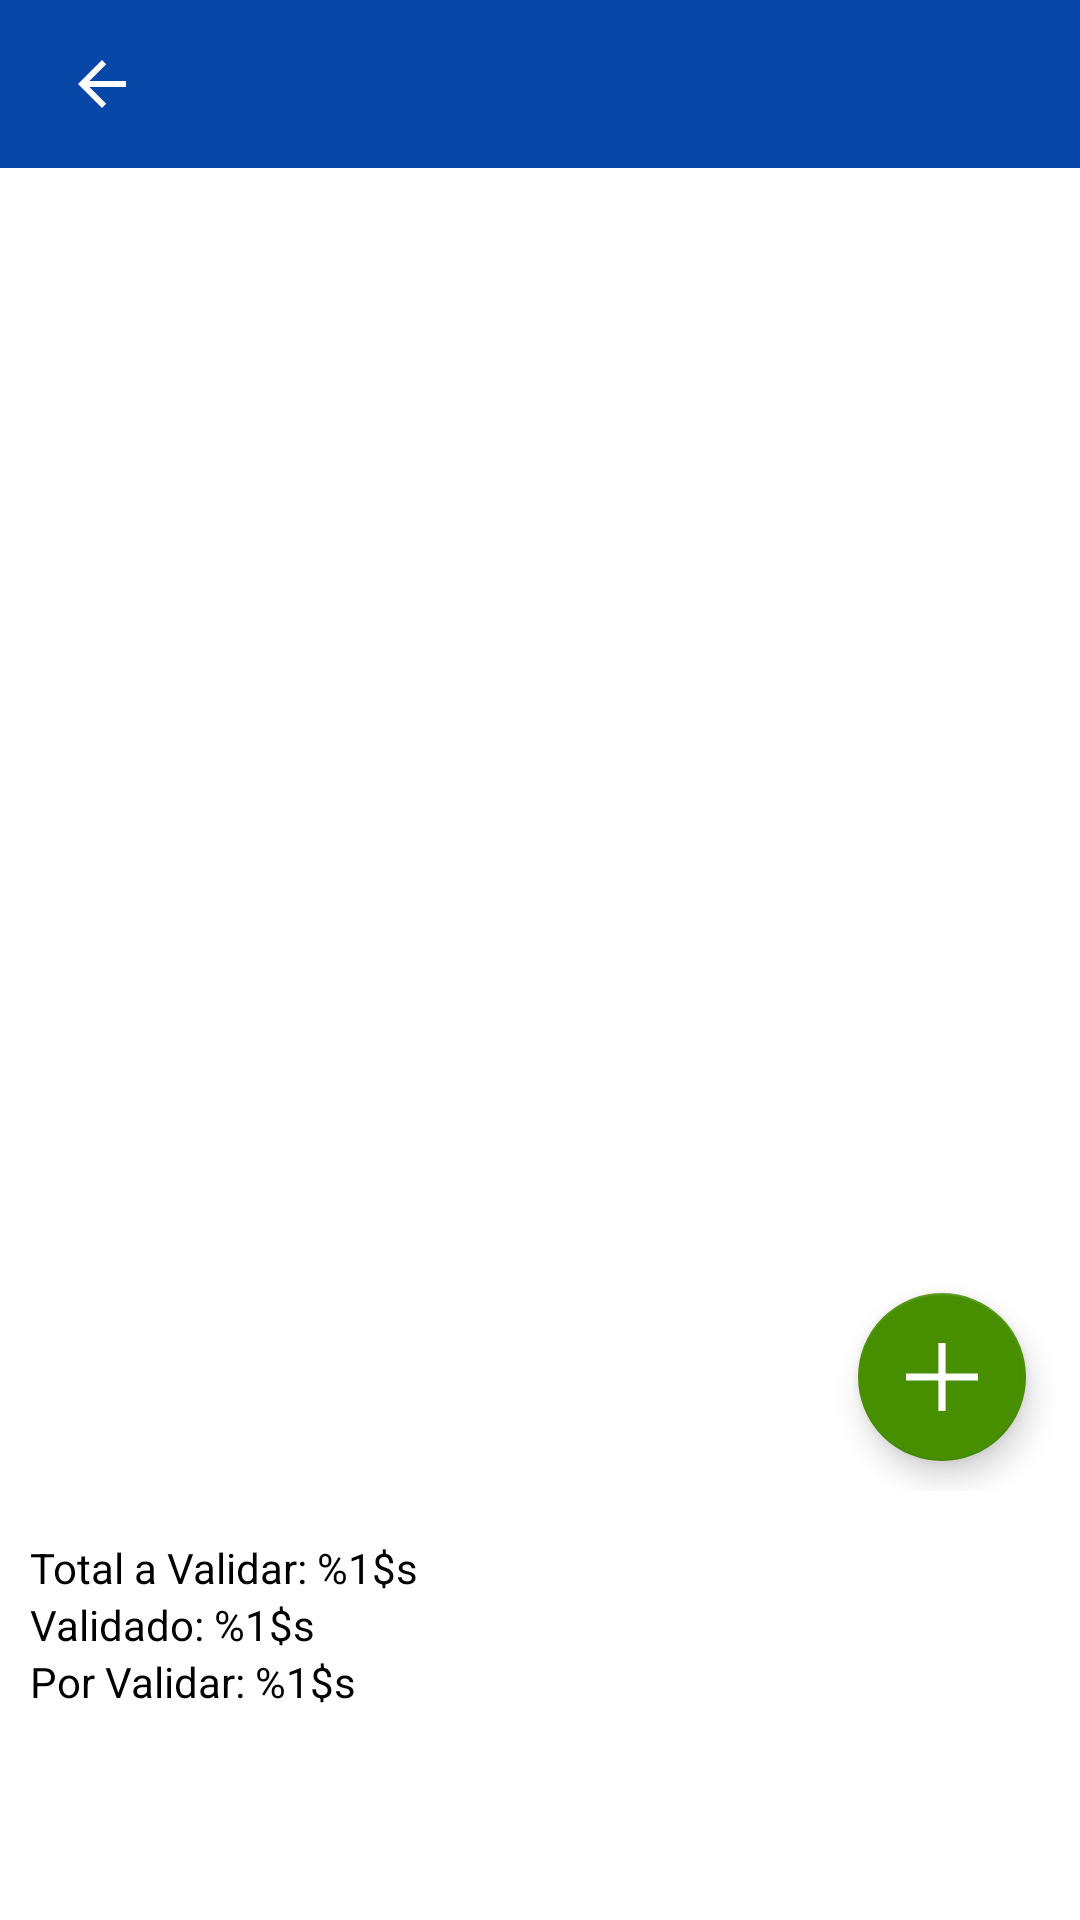

Screen size 1080 × 1920. Icon name, then its box in pixels as (x1, y1, x2, y2):
plus: (858, 1293, 1026, 1461)
